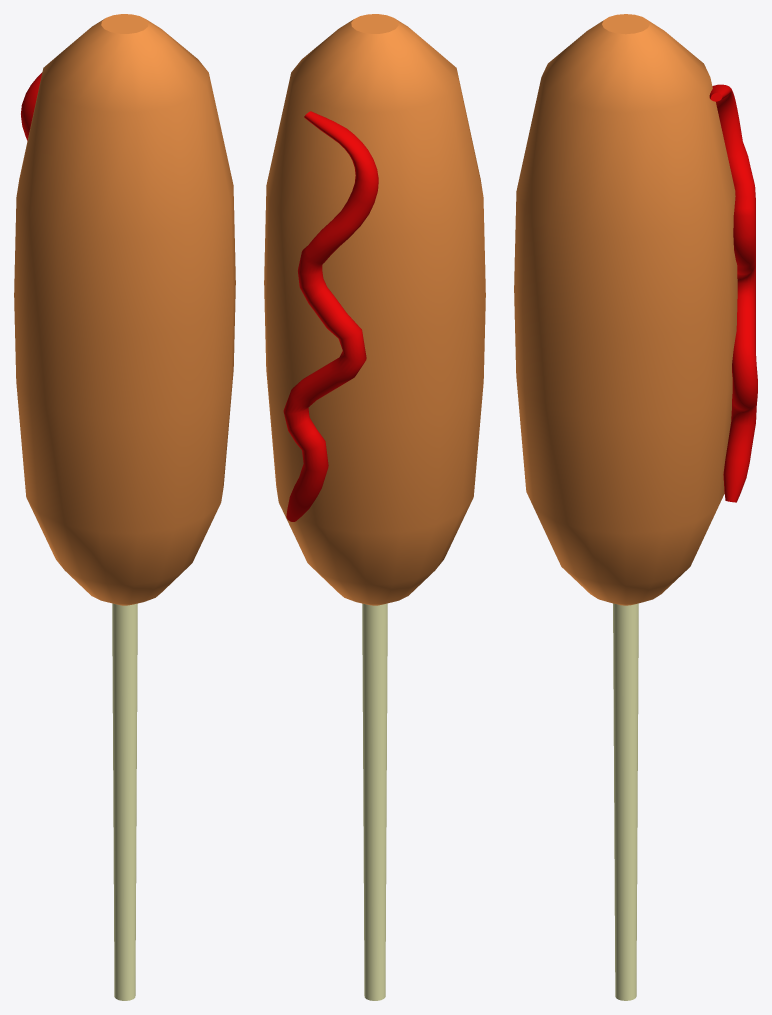
The model's file is CornDog.fbx.
The picture shows the model from 3 angles, left to right: view 1: azimuth 30°, elevation 25°; view 2: azimuth 150°, elevation 25°; view 3: azimuth 270°, elevation 25°; orthographic projection.
Visible parts, largest first — view 1: CornDog; view 2: CornDog; view 3: CornDog.
Boxes of the visible parts, x1,y1,x2,y2 form: CornDog: (14, 14, 235, 1000); CornDog: (264, 14, 485, 1000); CornDog: (514, 14, 757, 1000).
Bounding box in the file's own units: 12.88 × 61.77 × 14.04.
